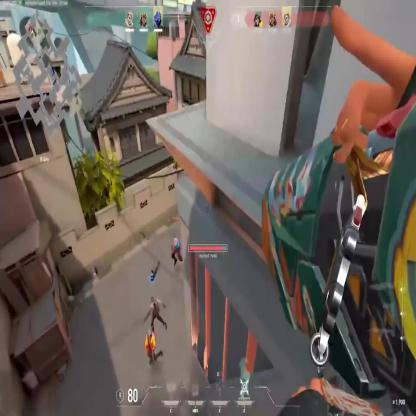enemy: (142, 328, 162, 366), (170, 233, 185, 266)
enemy_head: (172, 234, 176, 239)
